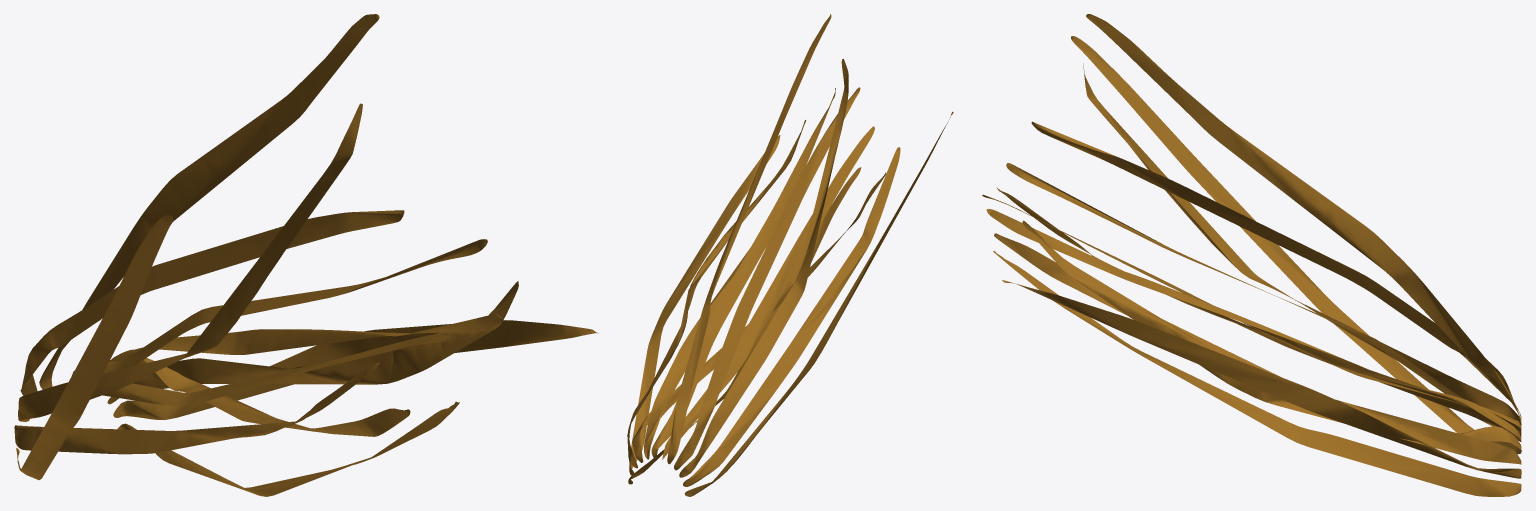
File: Blades01.fbx
The picture shows the model from 3 angles, left to right: view 1: azimuth 30°, elevation 25°; view 2: azimuth 150°, elevation 25°; view 3: azimuth 270°, elevation 25°; orthographic projection. The views are drawn at different scales.
Parts seen in each view (by area): view 1: Blades01; view 2: Blades01; view 3: Blades01.
Boxes of the visible parts, x1=… form: Blades01: x1=14, y1=14, x2=598, y2=496; Blades01: x1=627, y1=14, x2=953, y2=496; Blades01: x1=982, y1=14, x2=1521, y2=496.
Bounding box in the file's own units: 1.01 × 1.71 × 1.81.
